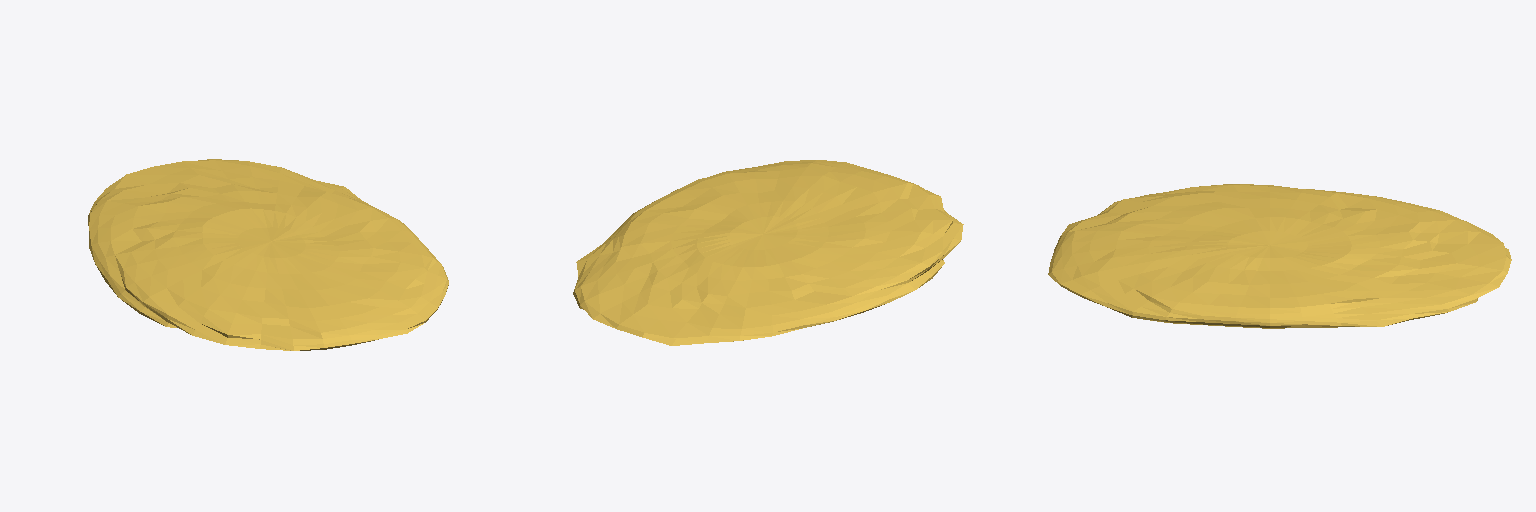
File: areia.obj
3 renders of one model, left to right at view 1: azimuth 30°, elevation 25°; view 2: azimuth 150°, elevation 25°; view 3: azimuth 270°, elevation 25°, orthographic.
Parts seen in each view (by area): view 1: Landscape; view 2: Landscape; view 3: Landscape.
Boxes of the visible parts, x1,y1,x2,y2 form: Landscape: [88, 159, 448, 350]; Landscape: [573, 160, 963, 345]; Landscape: [1048, 184, 1511, 328].
Size of the model in its own units: 677 by 74.66 by 952.